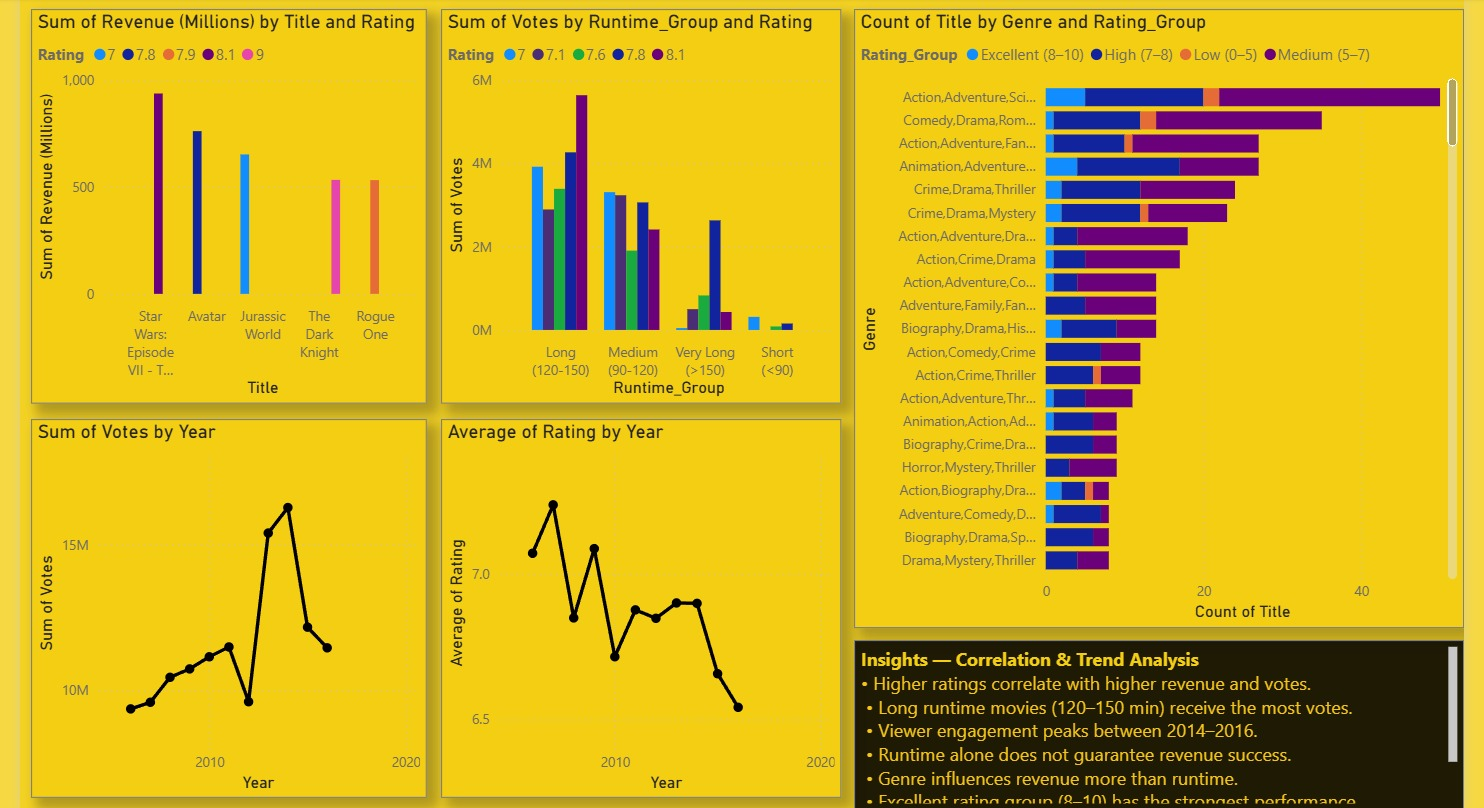

This screenshot's page, from the dashboard's own definition file:
{"tool":"powerbi","page":{"name":"Correlation & Advanced Metrics","canvas":[1280,720],"ordinal":3},"visuals":[{"type":"clusteredColumnChart","fields":{"Category":["Movie.Title"],"Y":["Sum(Movie.Revenue (Millions))"],"Series":["Movie.Rating"]},"box":[9.6,9.6,351.3,349.9],"z":0},{"type":"clusteredColumnChart","fields":{"Category":["Movie.Runtime_Group"],"Series":["Movie.Rating"],"Y":["Sum(Movie.Votes)"]},"box":[373.2,9.6,355.4,349.9],"z":1000},{"type":"lineChart","fields":{"Y":["Sum(IMDB-Movie-Data.Votes)"],"Category":["IMDB-Movie-Data.Year"]},"box":[9.6,373.2,351.3,336.2],"z":2000},{"type":"lineChart","fields":{"Y":["Avg(IMDB-Movie-Data.Rating)"],"Category":["IMDB-Movie-Data.Year"]},"box":[373.2,373.2,355.4,336.2],"z":3000},{"type":"barChart","fields":{"Category":["Movie.Genre"],"Y":["CountNonNull(Movie.Title)"],"Series":["Movie.Rating_Group"]},"box":[739.6,9.6,540.7,548.9],"z":4000},{"type":"textbox","box":[739.6,569.5,540.7,150.9],"z":5000}]}

Visuals, with their boxes on the page's 1280x720 design canvas (x1, y1, x2, y2). These are canvas units, not pixel positions in the 1484x808 screenshot, which may show the page scaled, cropped or inside an application window:
clusteredColumnChart - Movie.Title x Sum(Movie.Revenue (Millions)): region(10, 10, 361, 360)
clusteredColumnChart - Movie.Runtime_Group x Movie.Rating: region(373, 10, 729, 360)
lineChart - Sum(IMDB-Movie-Data.Votes) x IMDB-Movie-Data.Year: region(10, 373, 361, 709)
lineChart - Avg(IMDB-Movie-Data.Rating) x IMDB-Movie-Data.Year: region(373, 373, 729, 709)
barChart - Movie.Genre x CountNonNull(Movie.Title): region(740, 10, 1280, 558)
textbox: region(740, 570, 1280, 720)
